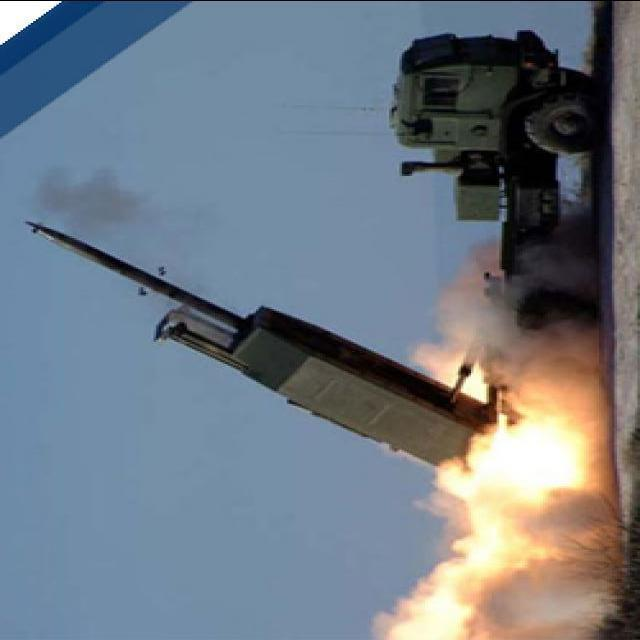missile: (18, 210, 255, 334)
